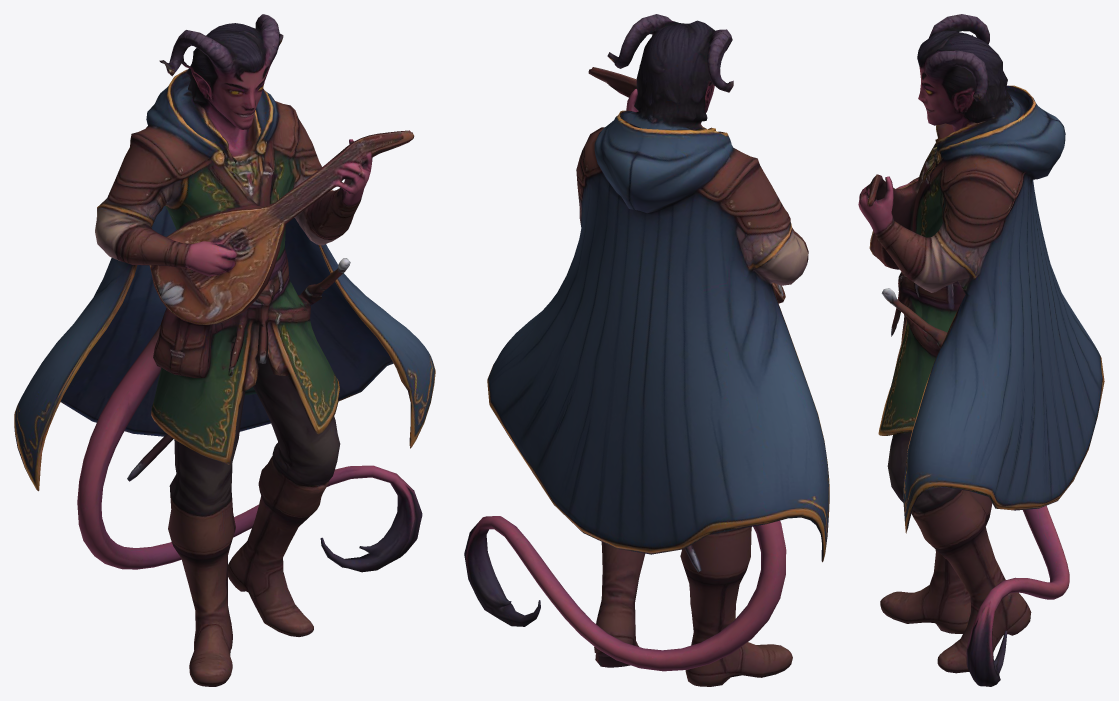
The model's file is Bardo.glb.
The picture shows the model from 3 angles, left to right: view 1: azimuth 30°, elevation 25°; view 2: azimuth 150°, elevation 25°; view 3: azimuth 270°, elevation 25°; orthographic projection. The views are drawn at different scales.
Parts seen in each view (by area): view 1: tripo_node_99a6beab-99ef-4607-9e15-0d1640094b95; view 2: tripo_node_99a6beab-99ef-4607-9e15-0d1640094b95; view 3: tripo_node_99a6beab-99ef-4607-9e15-0d1640094b95.
Part boxes in pixels (x1,y1,x2,y2): tripo_node_99a6beab-99ef-4607-9e15-0d1640094b95: (14,14,435,686); tripo_node_99a6beab-99ef-4607-9e15-0d1640094b95: (464,14,829,686); tripo_node_99a6beab-99ef-4607-9e15-0d1640094b95: (858,14,1104,686).
Size of the model in its own units: 0.6216 by 0.9973 by 0.3661.
Materials: 1 (1 with a texture image).
